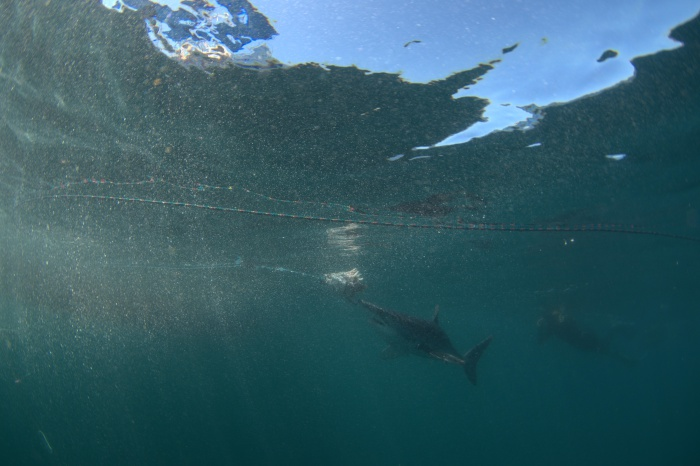Mako: (356, 294, 496, 395)
